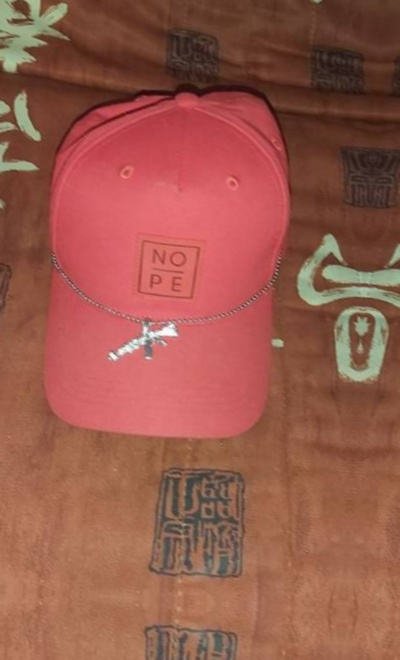Hat: (14, 74, 326, 465)
